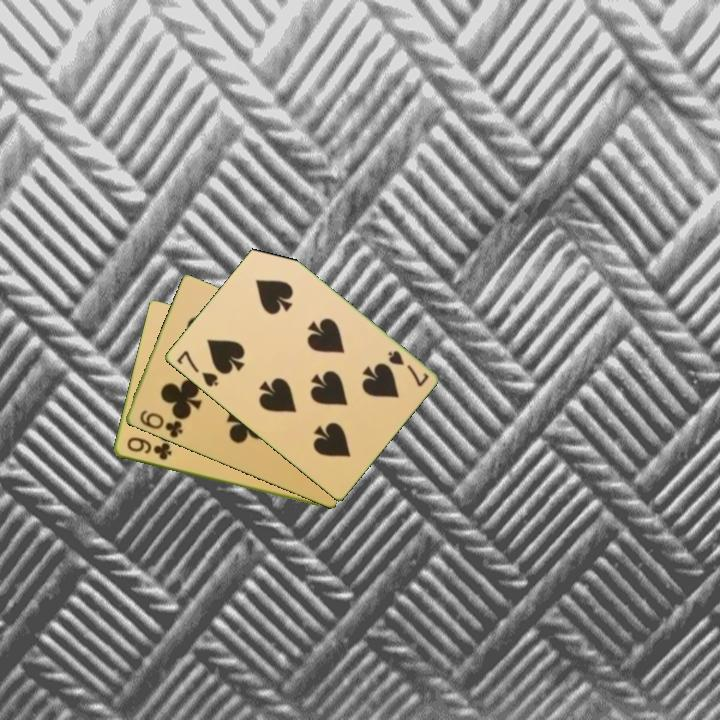6c: (136, 406, 185, 441)
7s: (173, 347, 221, 390), (383, 347, 431, 390)
9c: (123, 434, 174, 463)
